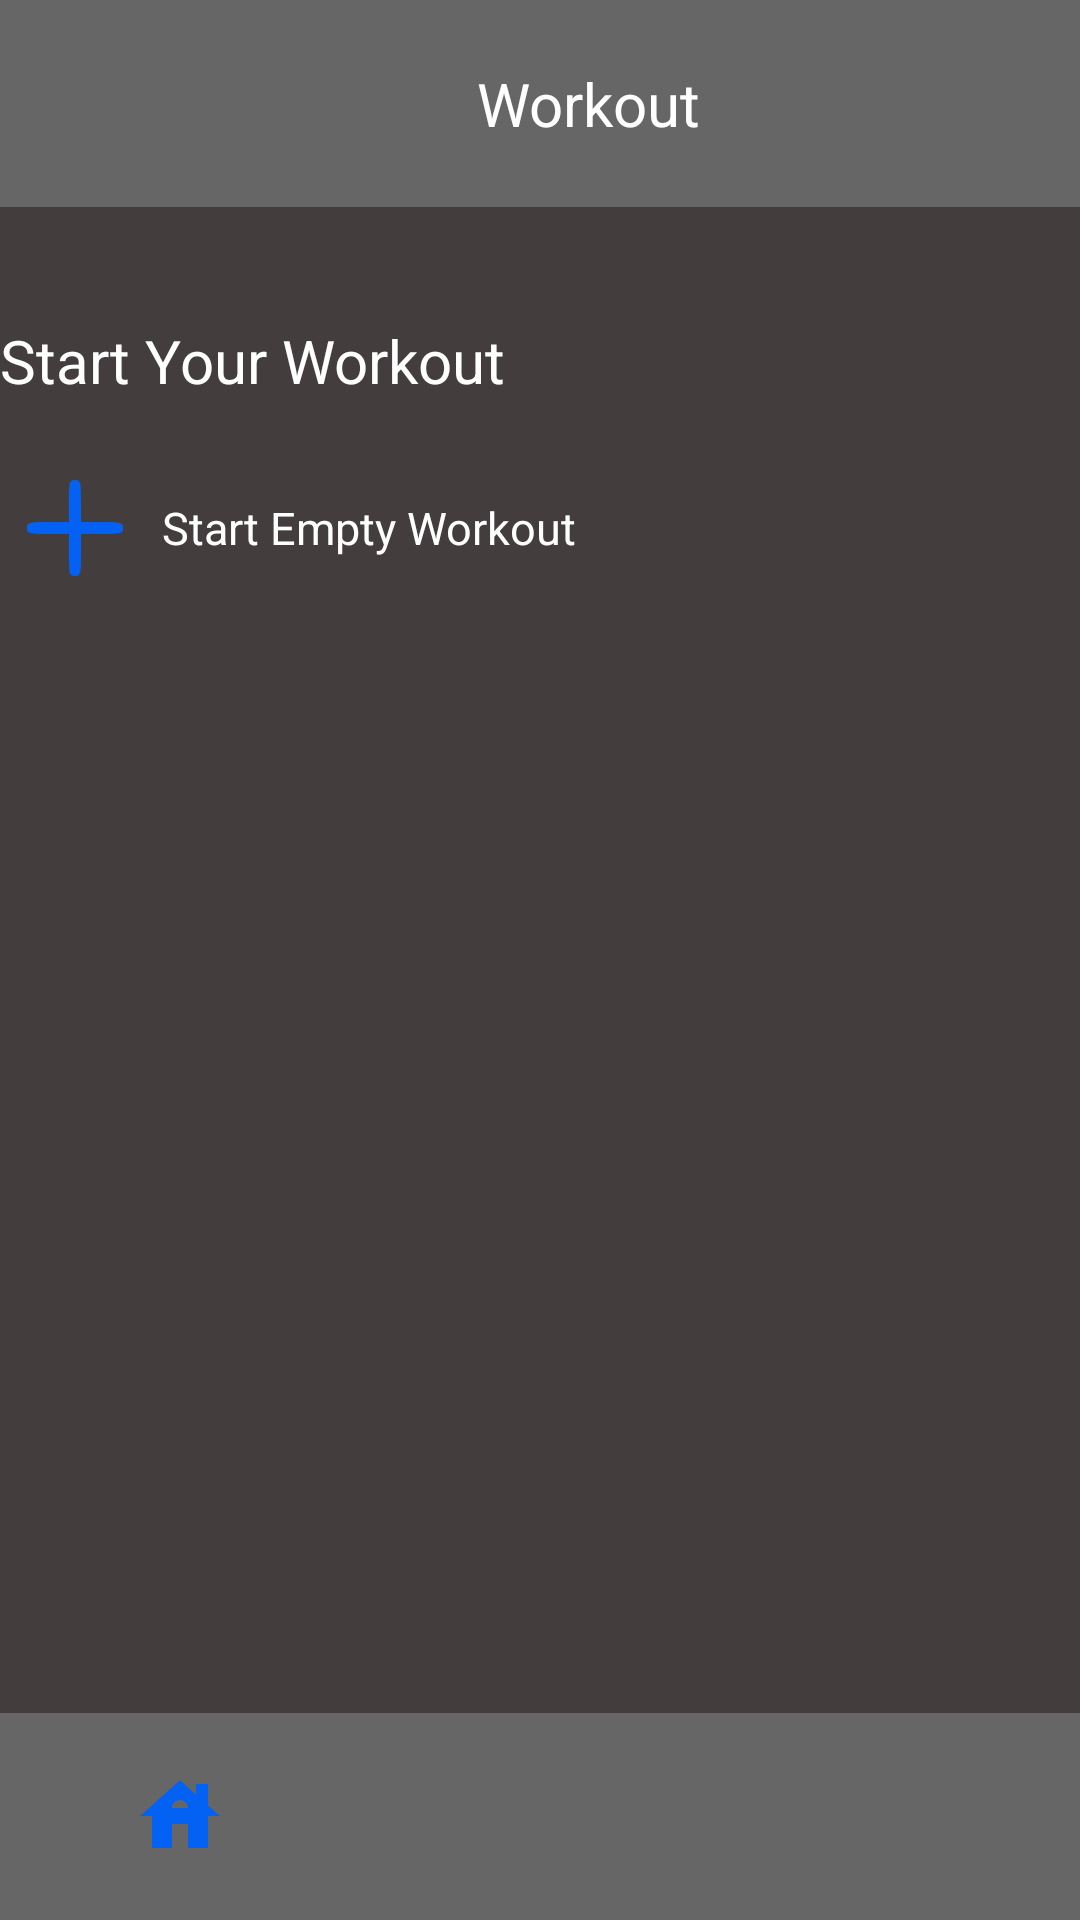

Named icons in this screenshot (1080px×1920px) and their bounding boxes, (x1, y1, x2, y2):
plus: (27, 480, 123, 576)
